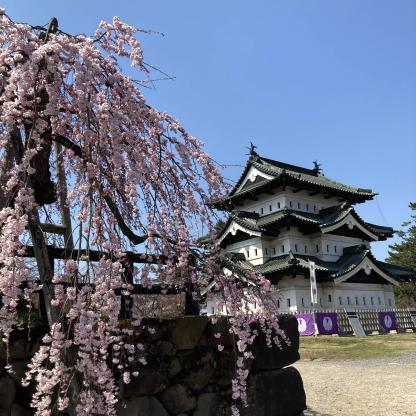ShidareZakura: (0, 5, 291, 416)
